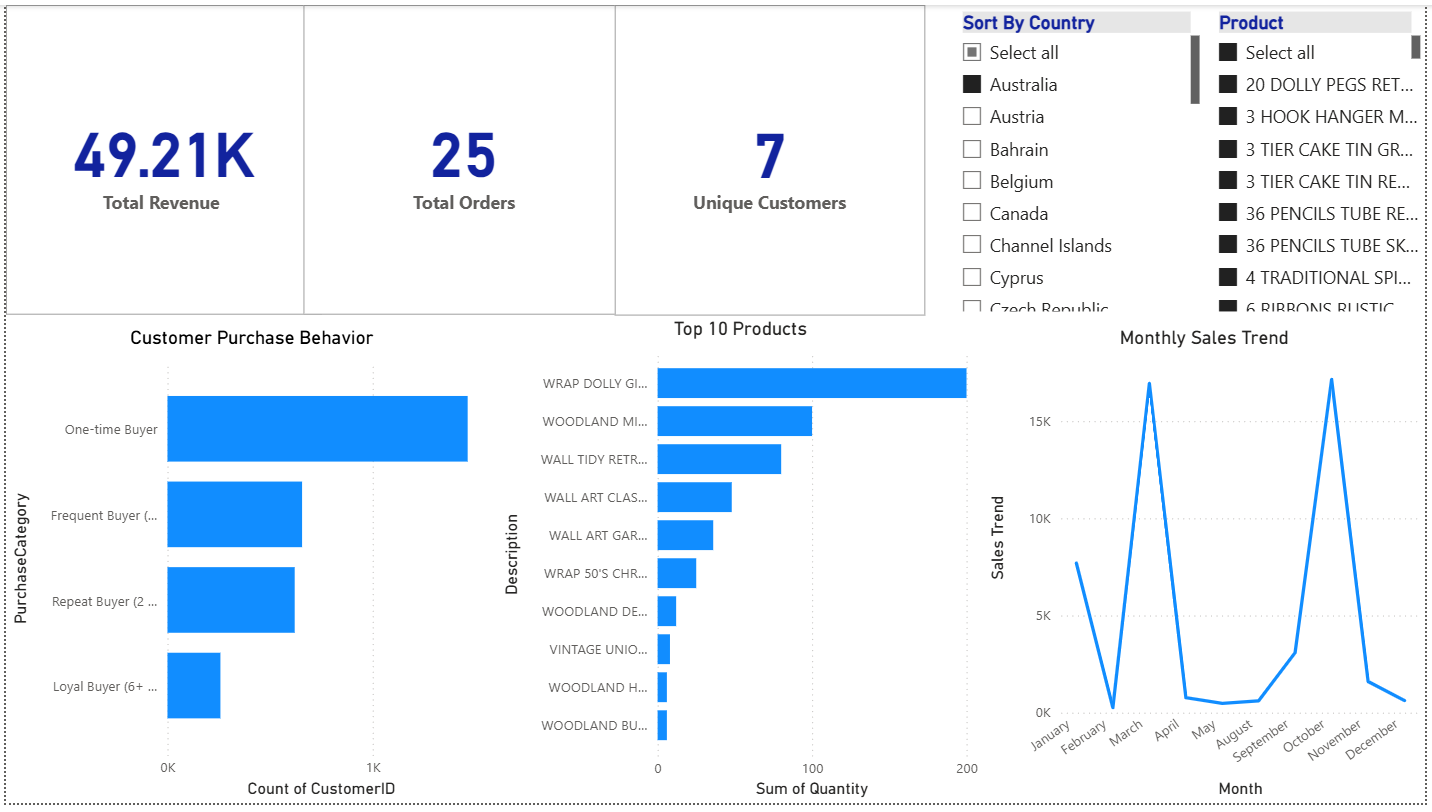

This screenshot's page, from the dashboard's own definition file:
{"tool":"powerbi","page":{"name":"Page 1","canvas":[1280,720],"ordinal":0},"visuals":[{"type":"card","fields":{"Values":["Sum(ecommerce_cleaned.TotalAmount)"]},"box":[0,0,285,279.6],"z":0},{"type":"card","fields":{"Values":["Count(ecommerce_cleaned.InvoiceNo)"]},"box":[268.7,0,290.4,279.6],"z":1000},{"type":"card","fields":{"Values":["Count(ecommerce_cleaned.CustomerID)"]},"box":[548.6,0,279.9,279.9],"z":2000},{"type":"barChart","title":"Top 10 Products","fields":{"Category":["ecommerce_cleaned.Description"],"Y":["Sum(ecommerce_cleaned.Quantity)"]},"box":[443.3,281.7,438.3,438.3],"z":3000},{"type":"slicer","fields":{"Values":["ecommerce_cleaned.Country"]},"box":[849.6,1.2,231.4,279.9],"z":4000},{"type":"lineChart","title":"Monthly Sales Trend","fields":{"Y":["Sum(ecommerce_cleaned.TotalAmount)"],"Category":["ecommerce_cleaned.InvoiceDate.Variation.Date Hierarchy.Month"]},"box":[882,289.8,398.1,430.4],"z":5000},{"type":"slicer","fields":{"Values":["ecommerce_cleaned.Description"]},"box":[1081,1,199,280],"z":6000},{"type":"barChart","title":"Customer Purchase Behavior","fields":{"Category":["CustomerPurchaseCount.PurchaseCategory"],"Y":["CountNonNull(CustomerPurchaseCount.CustomerID)"]},"box":[0,290,443.3,430],"z":7000}]}

Visuals, with their boxes in screenshot pixels (x1, y1, x2, y2), scaled from the page's 1280x720 canvas onto the 1432x812 screenshot:
card - Sum(ecommerce_cleaned.TotalAmount): locate(0, 0, 319, 315)
card - Count(ecommerce_cleaned.InvoiceNo): locate(301, 0, 625, 315)
card - Count(ecommerce_cleaned.CustomerID): locate(614, 0, 927, 316)
"Top 10 Products" barChart: locate(496, 318, 986, 811)
slicer - ecommerce_cleaned.Country: locate(950, 1, 1209, 317)
"Monthly Sales Trend" lineChart: locate(987, 327, 1431, 811)
slicer - ecommerce_cleaned.Description: locate(1209, 1, 1431, 317)
"Customer Purchase Behavior" barChart: locate(0, 327, 496, 811)
